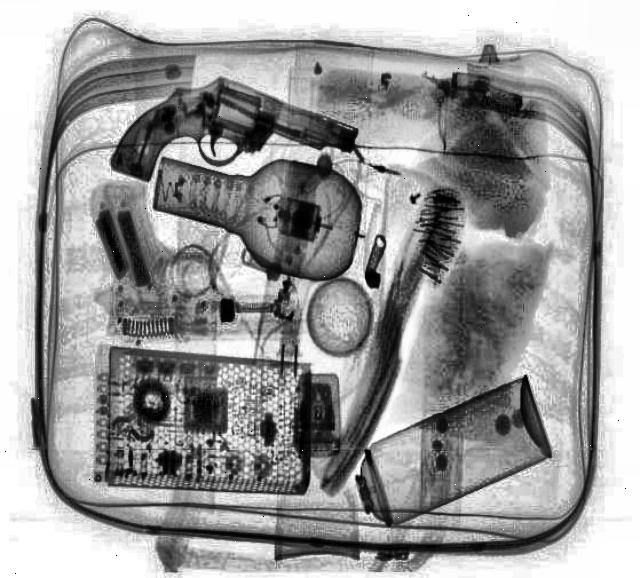Gun: (105, 76, 355, 184)
